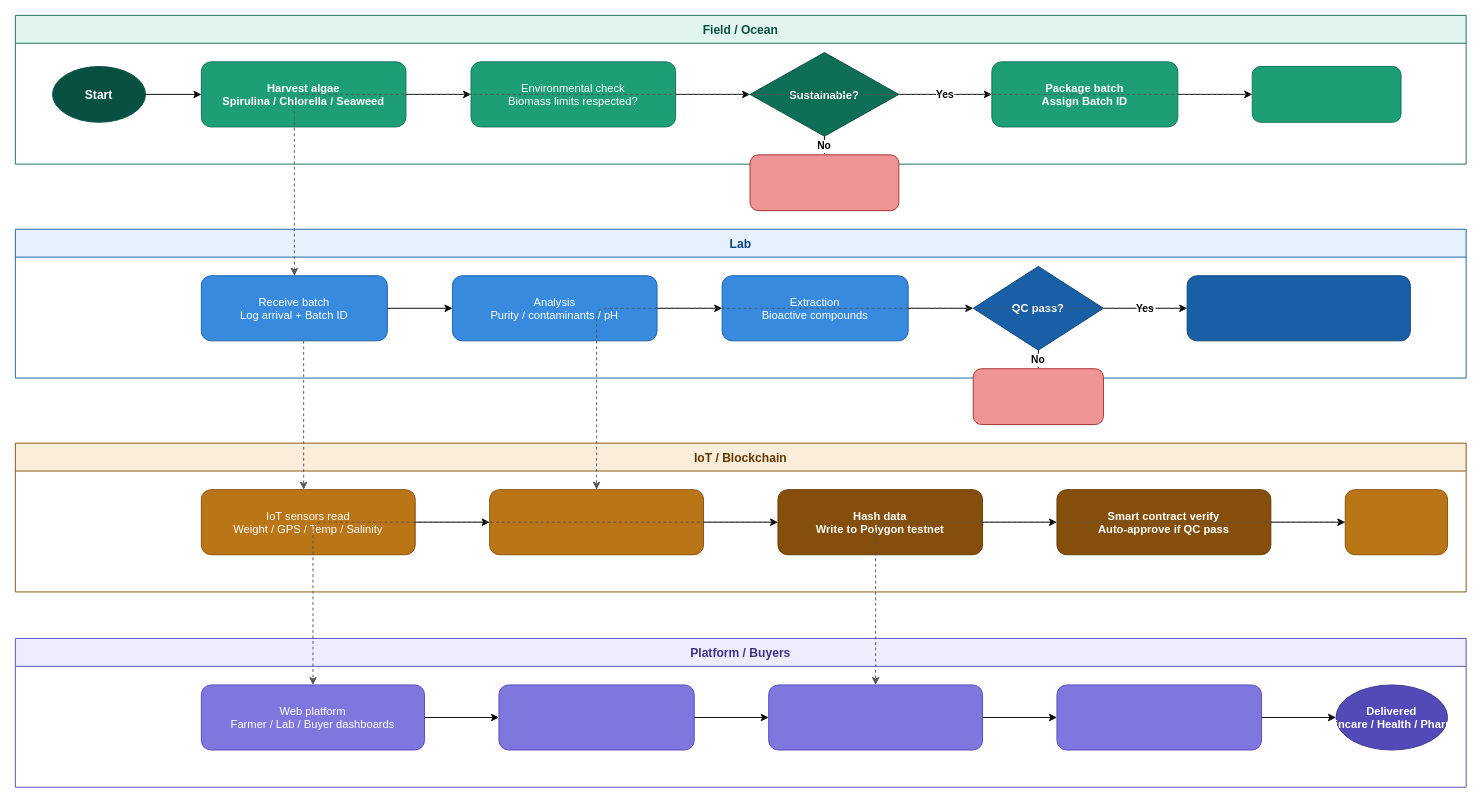
The diagram is 1481 pixels wide and 803 high, and some of its shapes have lost their labels. Each missing label, with the centre of its shape:
"Build data package Batch ID + sensor + QC cert" belongs at (x=596, y=522).
"Buyer portal Browse + place order" belongs at (x=596, y=717).
"Generate QR code Link to blockchain record" belongs at (x=1396, y=522).
"Issue QC certificate Score 0-100 + Certifications" belongs at (x=1298, y=308).
"Live shipment tracking Real-time status updates" belongs at (x=1159, y=717).
"Pause harvest Report issue" belongs at (x=824, y=182).
"Reject batch Notify farmer" belongs at (x=1037, y=396).
"Scan QR / enter batch ID Retrieve blockchain record" belongs at (x=875, y=717).
"Ship to lab" belongs at (x=1326, y=94).
